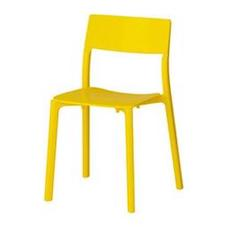chair: (30, 5, 195, 211)
